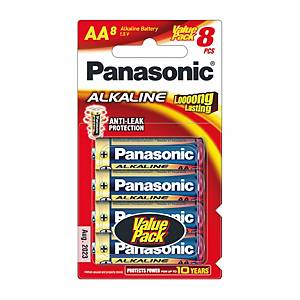Battery: (91, 137, 205, 174), (90, 234, 209, 267), (90, 202, 205, 234), (90, 171, 205, 202)
